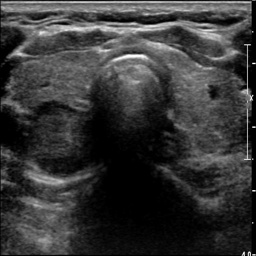mass: (33, 99, 85, 175)
